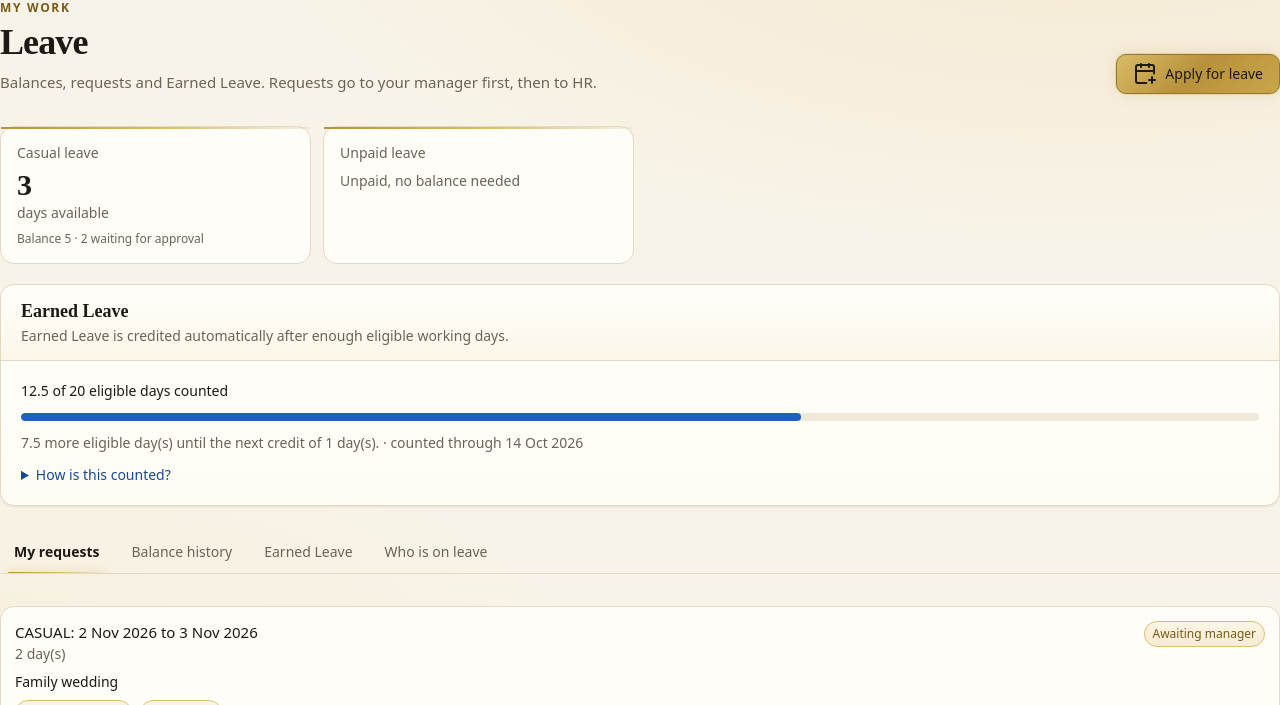
LeavePage › shows other server refusals (overlap) inside the dialog
Click the button "Apply for leave".
click(1198, 74)  # box [1116,54,1279,94]
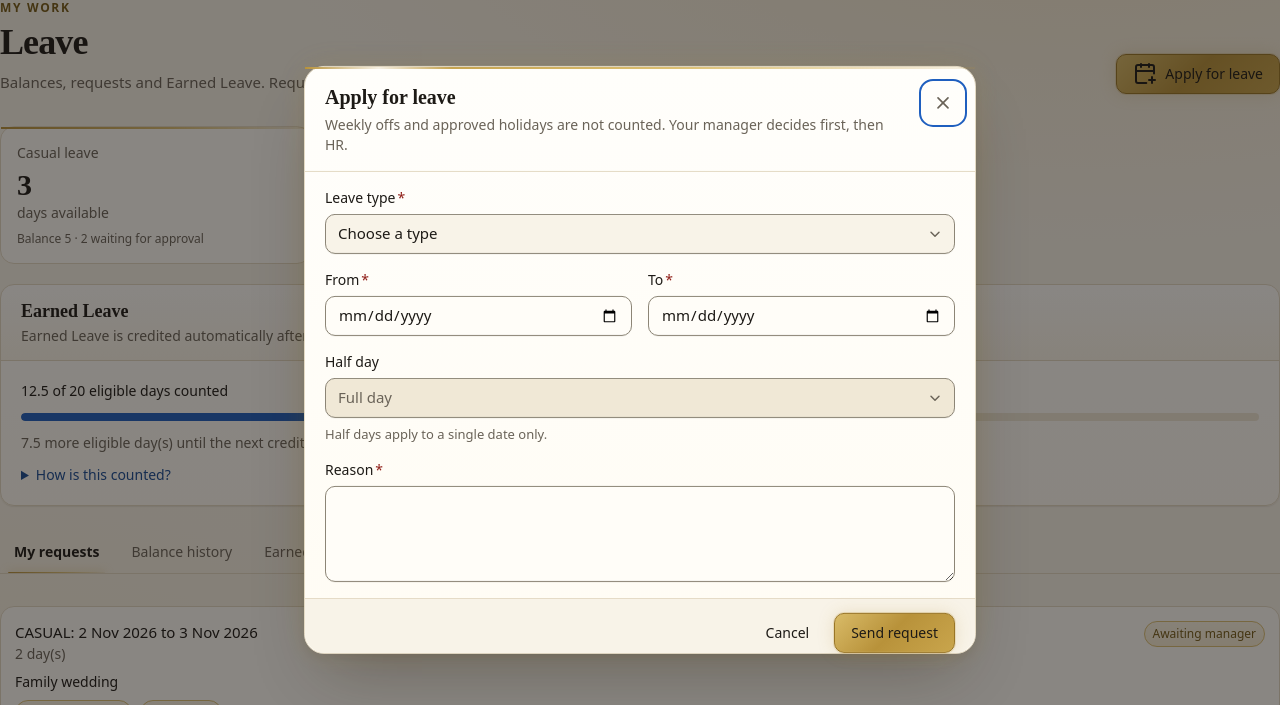
Select "Unpaid leave (unpaid)" in the dropdown labelled "Leave type*" at point(640, 234), box [325,214,955,254]
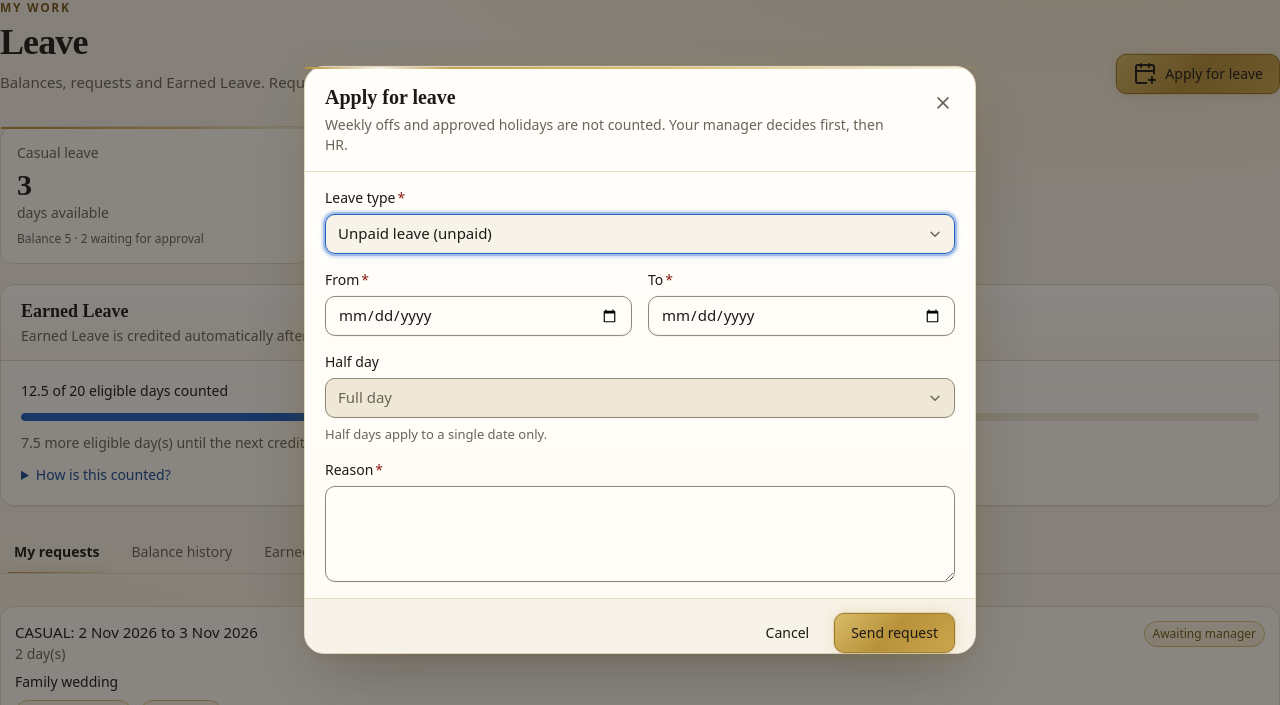
Type "2026-11-02" into the date field labelled "From*".
click(478, 316); type("2026-11-02")  # box [325,296,632,336]
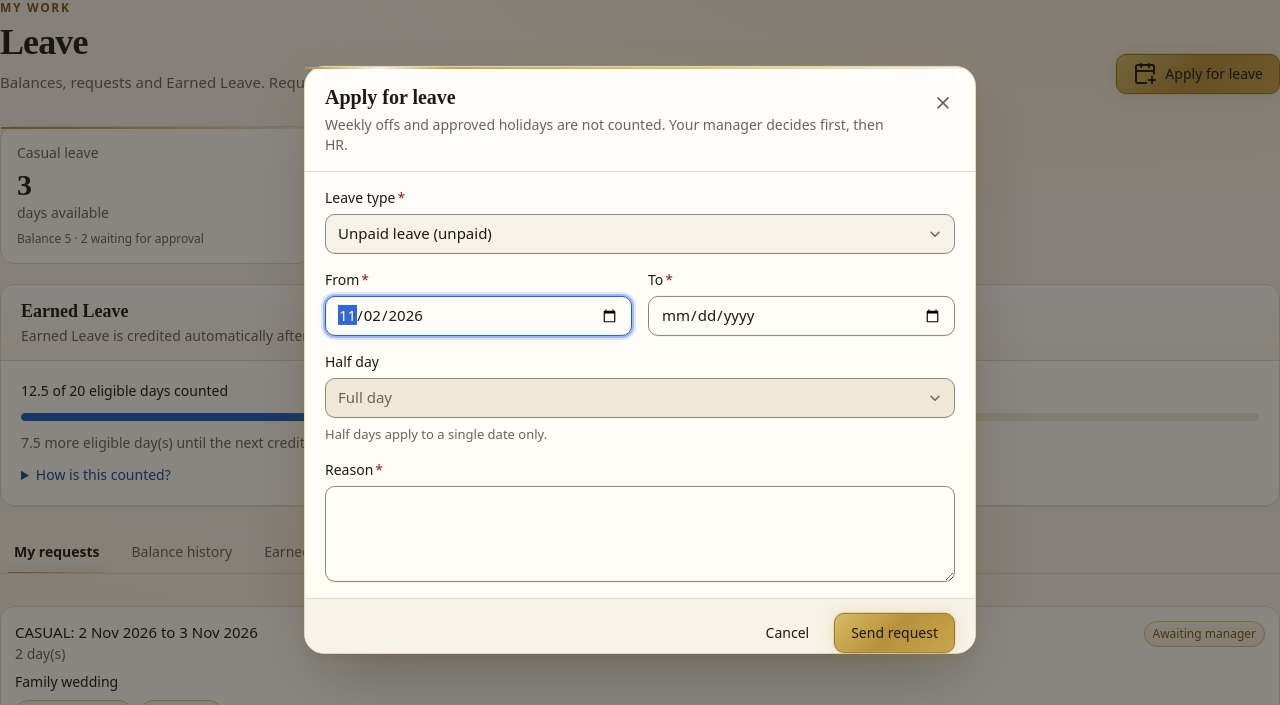
Type "2026-11-02" into the date field labelled "To*".
click(802, 316); type("2026-11-02")  # box [648,296,955,336]
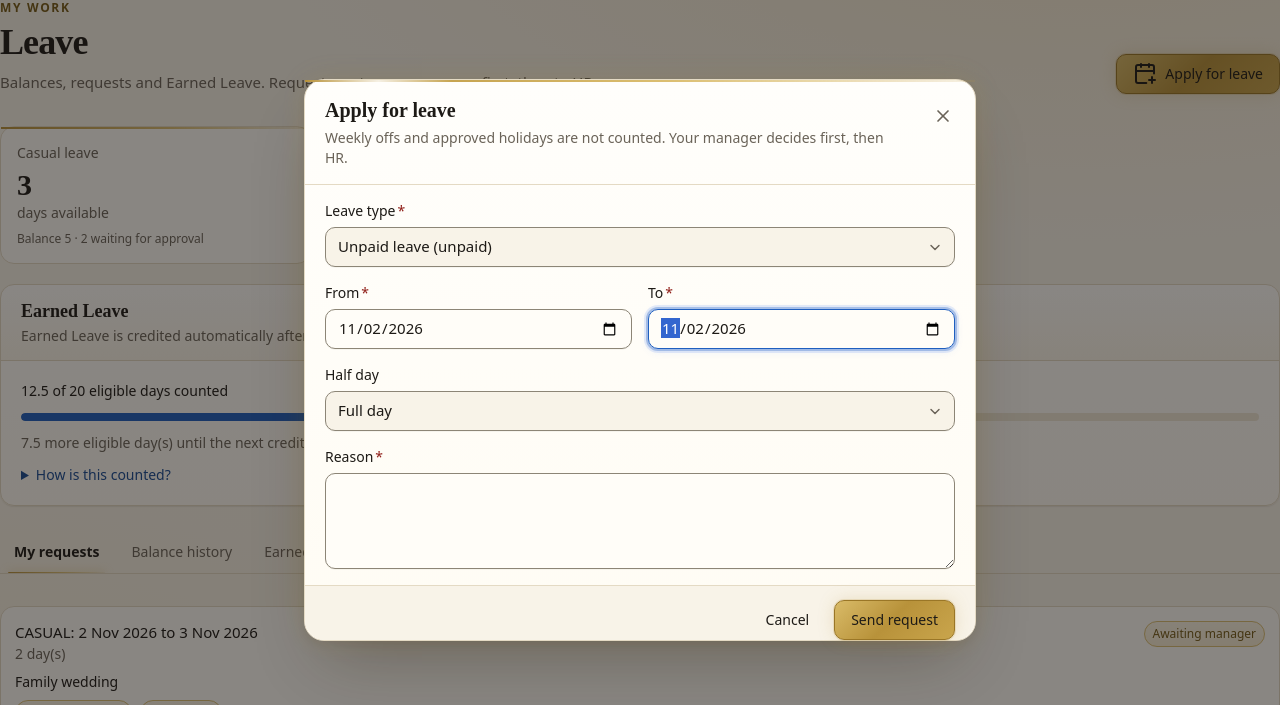
Type "Trip" into the text box labelled "Reason*".
click(640, 521); type("Trip")  # box [325,473,955,569]
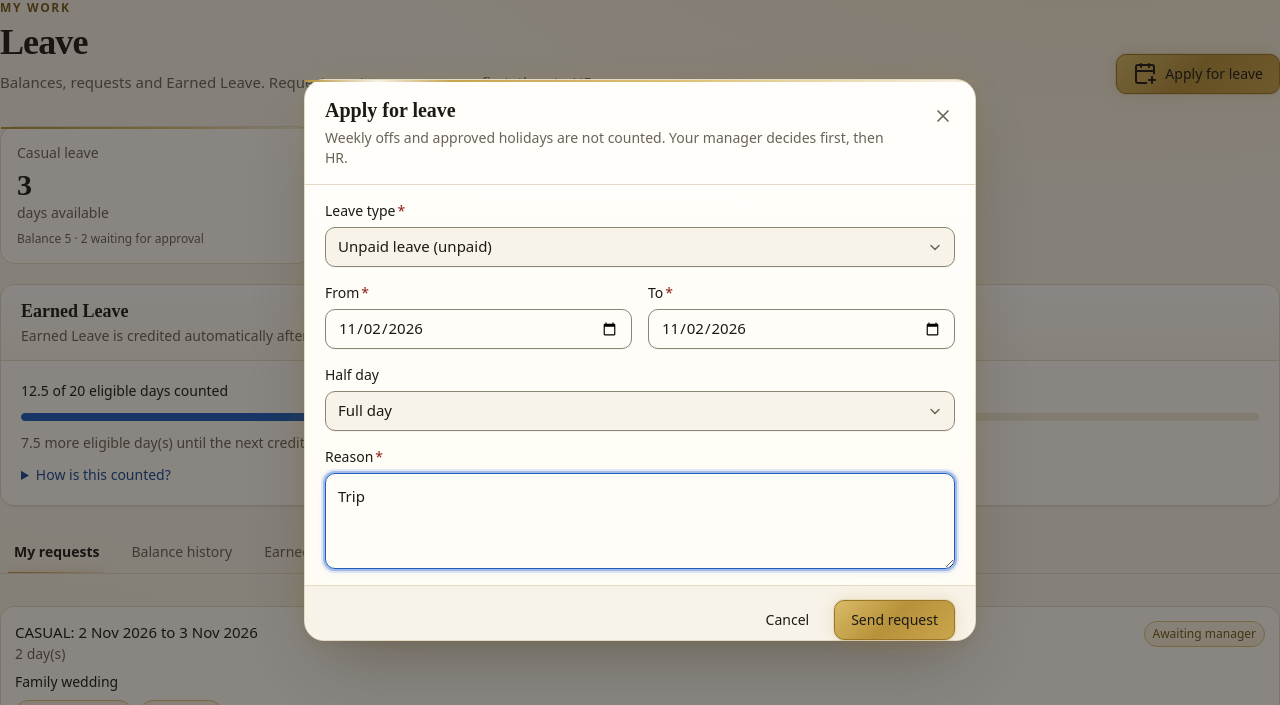
Click the button "Send request".
click(895, 620)  # box [834,600,955,640]
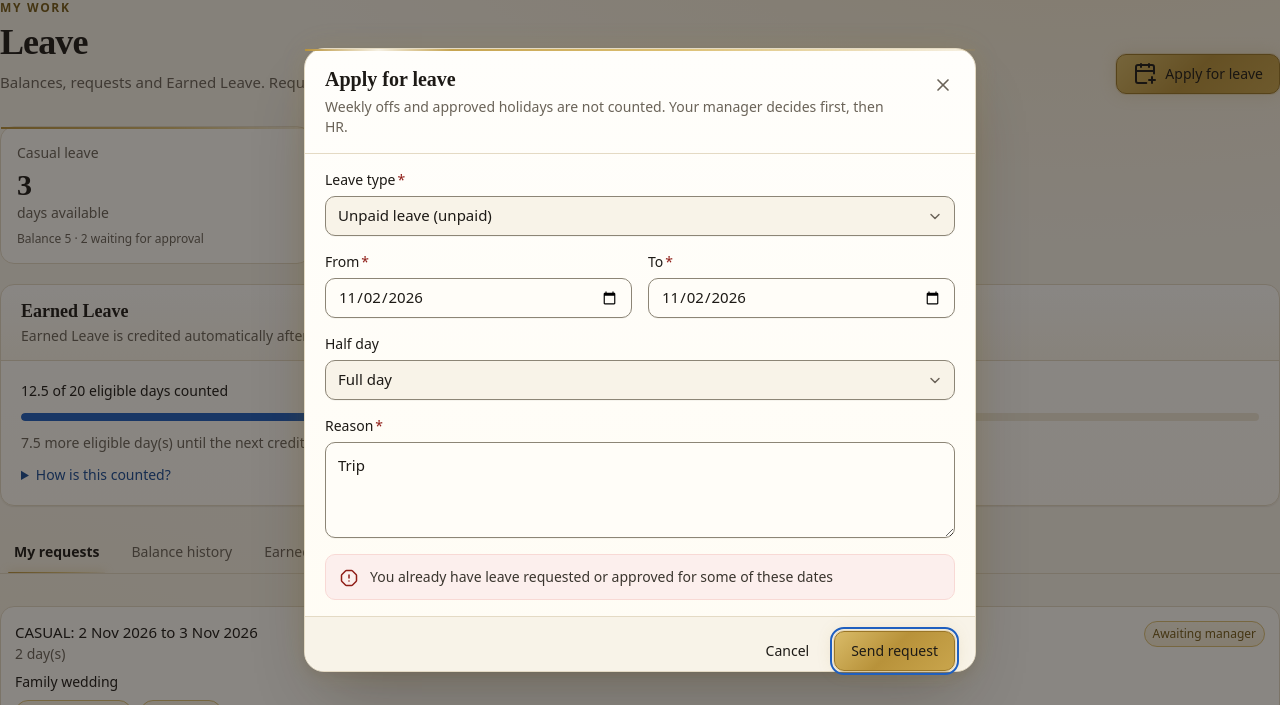
Result: the text "You already have leave requested or approved" is shown at [370,567,833,586]
